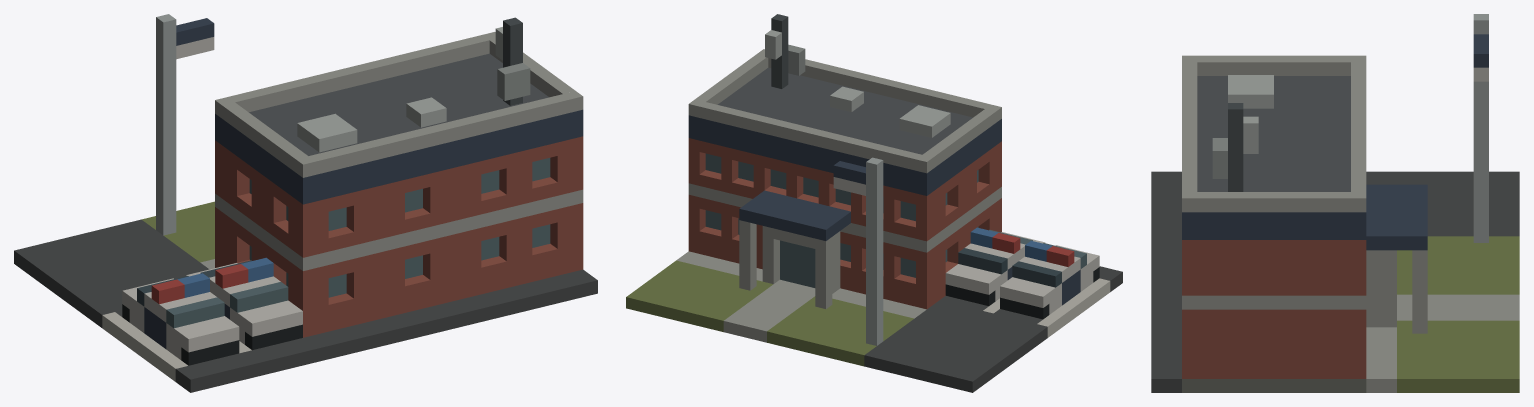
Rendered from Claude_police_station.glb.
3 views of the same model, side by side, from view 1: azimuth 30°, elevation 25°; view 2: azimuth 150°, elevation 25°; view 3: azimuth 270°, elevation 25° (orthographic). The views are drawn at different scales.
Visible parts, largest first — view 1: Claude_police_station; view 2: Claude_police_station; view 3: Claude_police_station.
Part boxes in pixels (x1,y1,x2,y2): Claude_police_station: [14, 14, 597, 392]; Claude_police_station: [626, 14, 1122, 392]; Claude_police_station: [1151, 14, 1519, 392].
Bounding box in the file's own units: 16 × 9.5 × 12.
